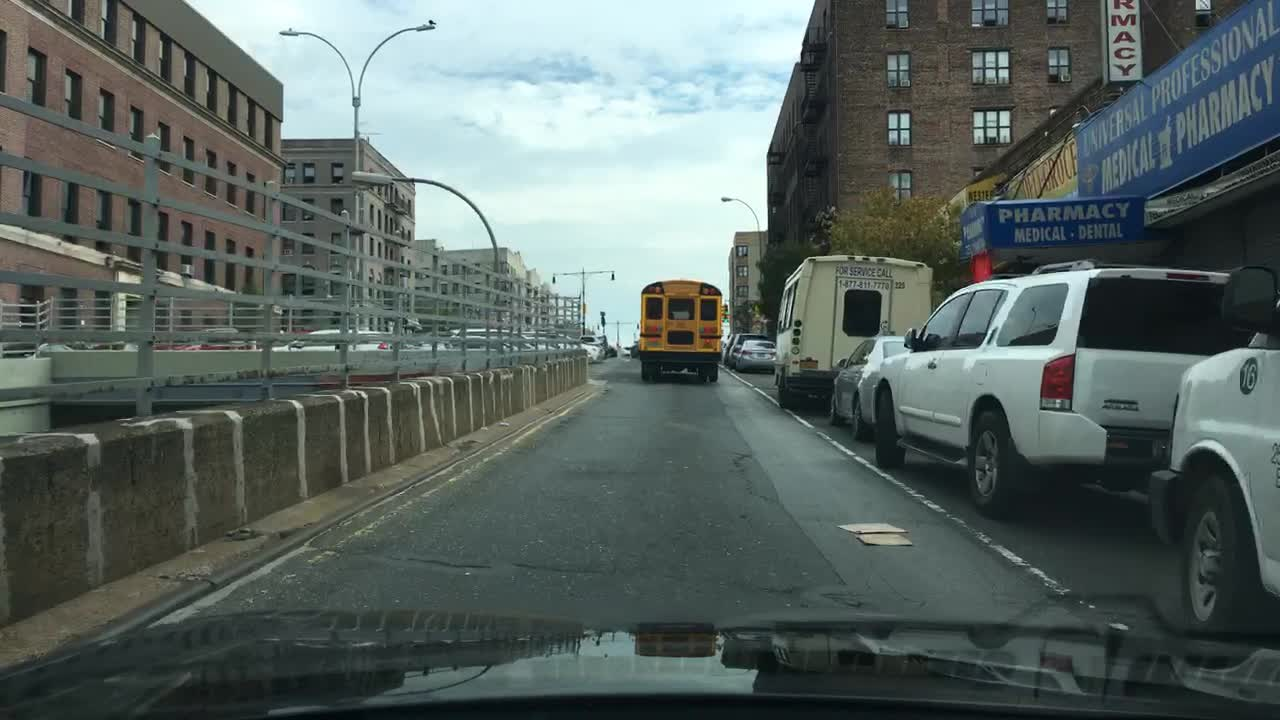bus: (637, 282, 723, 382)
car: (870, 259, 1258, 521), (1147, 261, 1279, 631), (830, 334, 912, 439), (177, 326, 255, 351), (450, 326, 529, 350), (284, 326, 353, 350), (734, 337, 778, 372), (341, 327, 402, 350), (726, 334, 763, 369), (399, 330, 454, 350), (35, 339, 88, 358), (0, 339, 41, 356), (579, 335, 607, 358), (713, 335, 736, 361), (723, 334, 739, 369), (90, 339, 135, 351), (521, 329, 548, 348), (545, 334, 579, 348), (259, 337, 292, 351), (150, 337, 180, 351), (603, 343, 618, 356), (618, 345, 632, 356), (452, 569, 478, 571)
traffic light: (726, 311, 733, 331), (722, 298, 730, 315)
truck: (767, 253, 937, 407)
